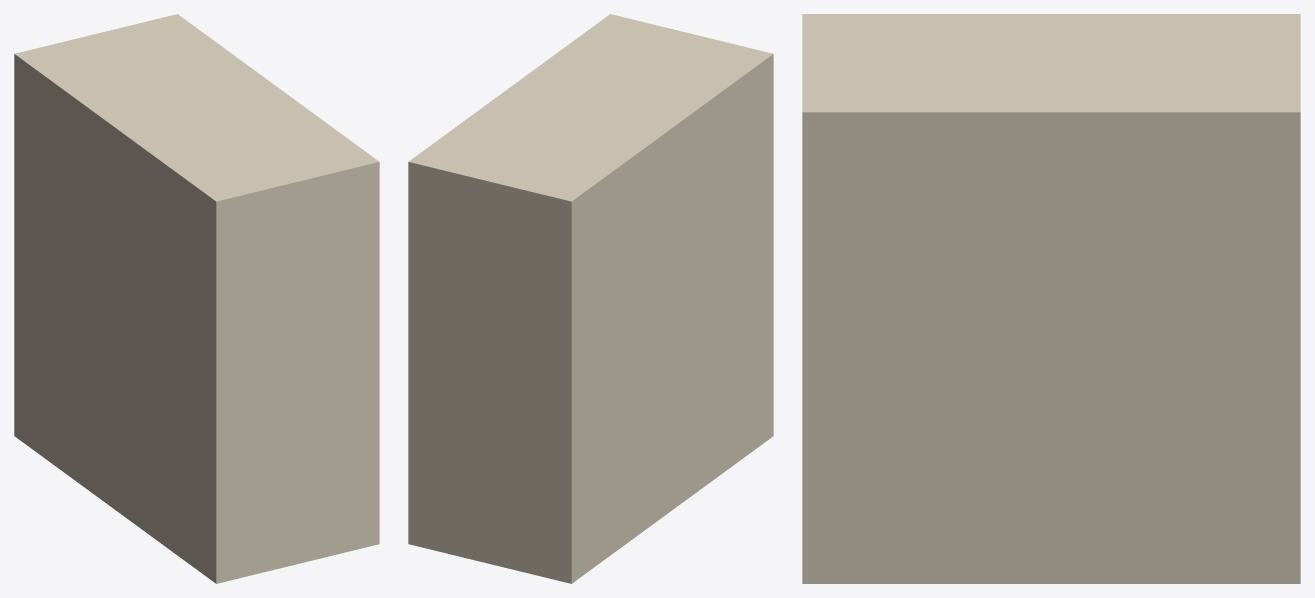
The picture shows the model from 3 angles, left to right: view 1: azimuth 30°, elevation 25°; view 2: azimuth 150°, elevation 25°; view 3: azimuth 270°, elevation 25°; orthographic projection. The views are drawn at different scales.
Visible parts, largest first — view 1: A-GF-WINDOW-012-HEAD; view 2: A-GF-WINDOW-012-HEAD; view 3: A-GF-WINDOW-012-HEAD.
Part boxes in pixels (x1=…): A-GF-WINDOW-012-HEAD: x1=14, y1=14, x2=379, y2=583; A-GF-WINDOW-012-HEAD: x1=408, y1=14, x2=773, y2=583; A-GF-WINDOW-012-HEAD: x1=802, y1=14, x2=1300, y2=583.
Size of the model in its own units: 0.21 by 0.47 by 0.45.
